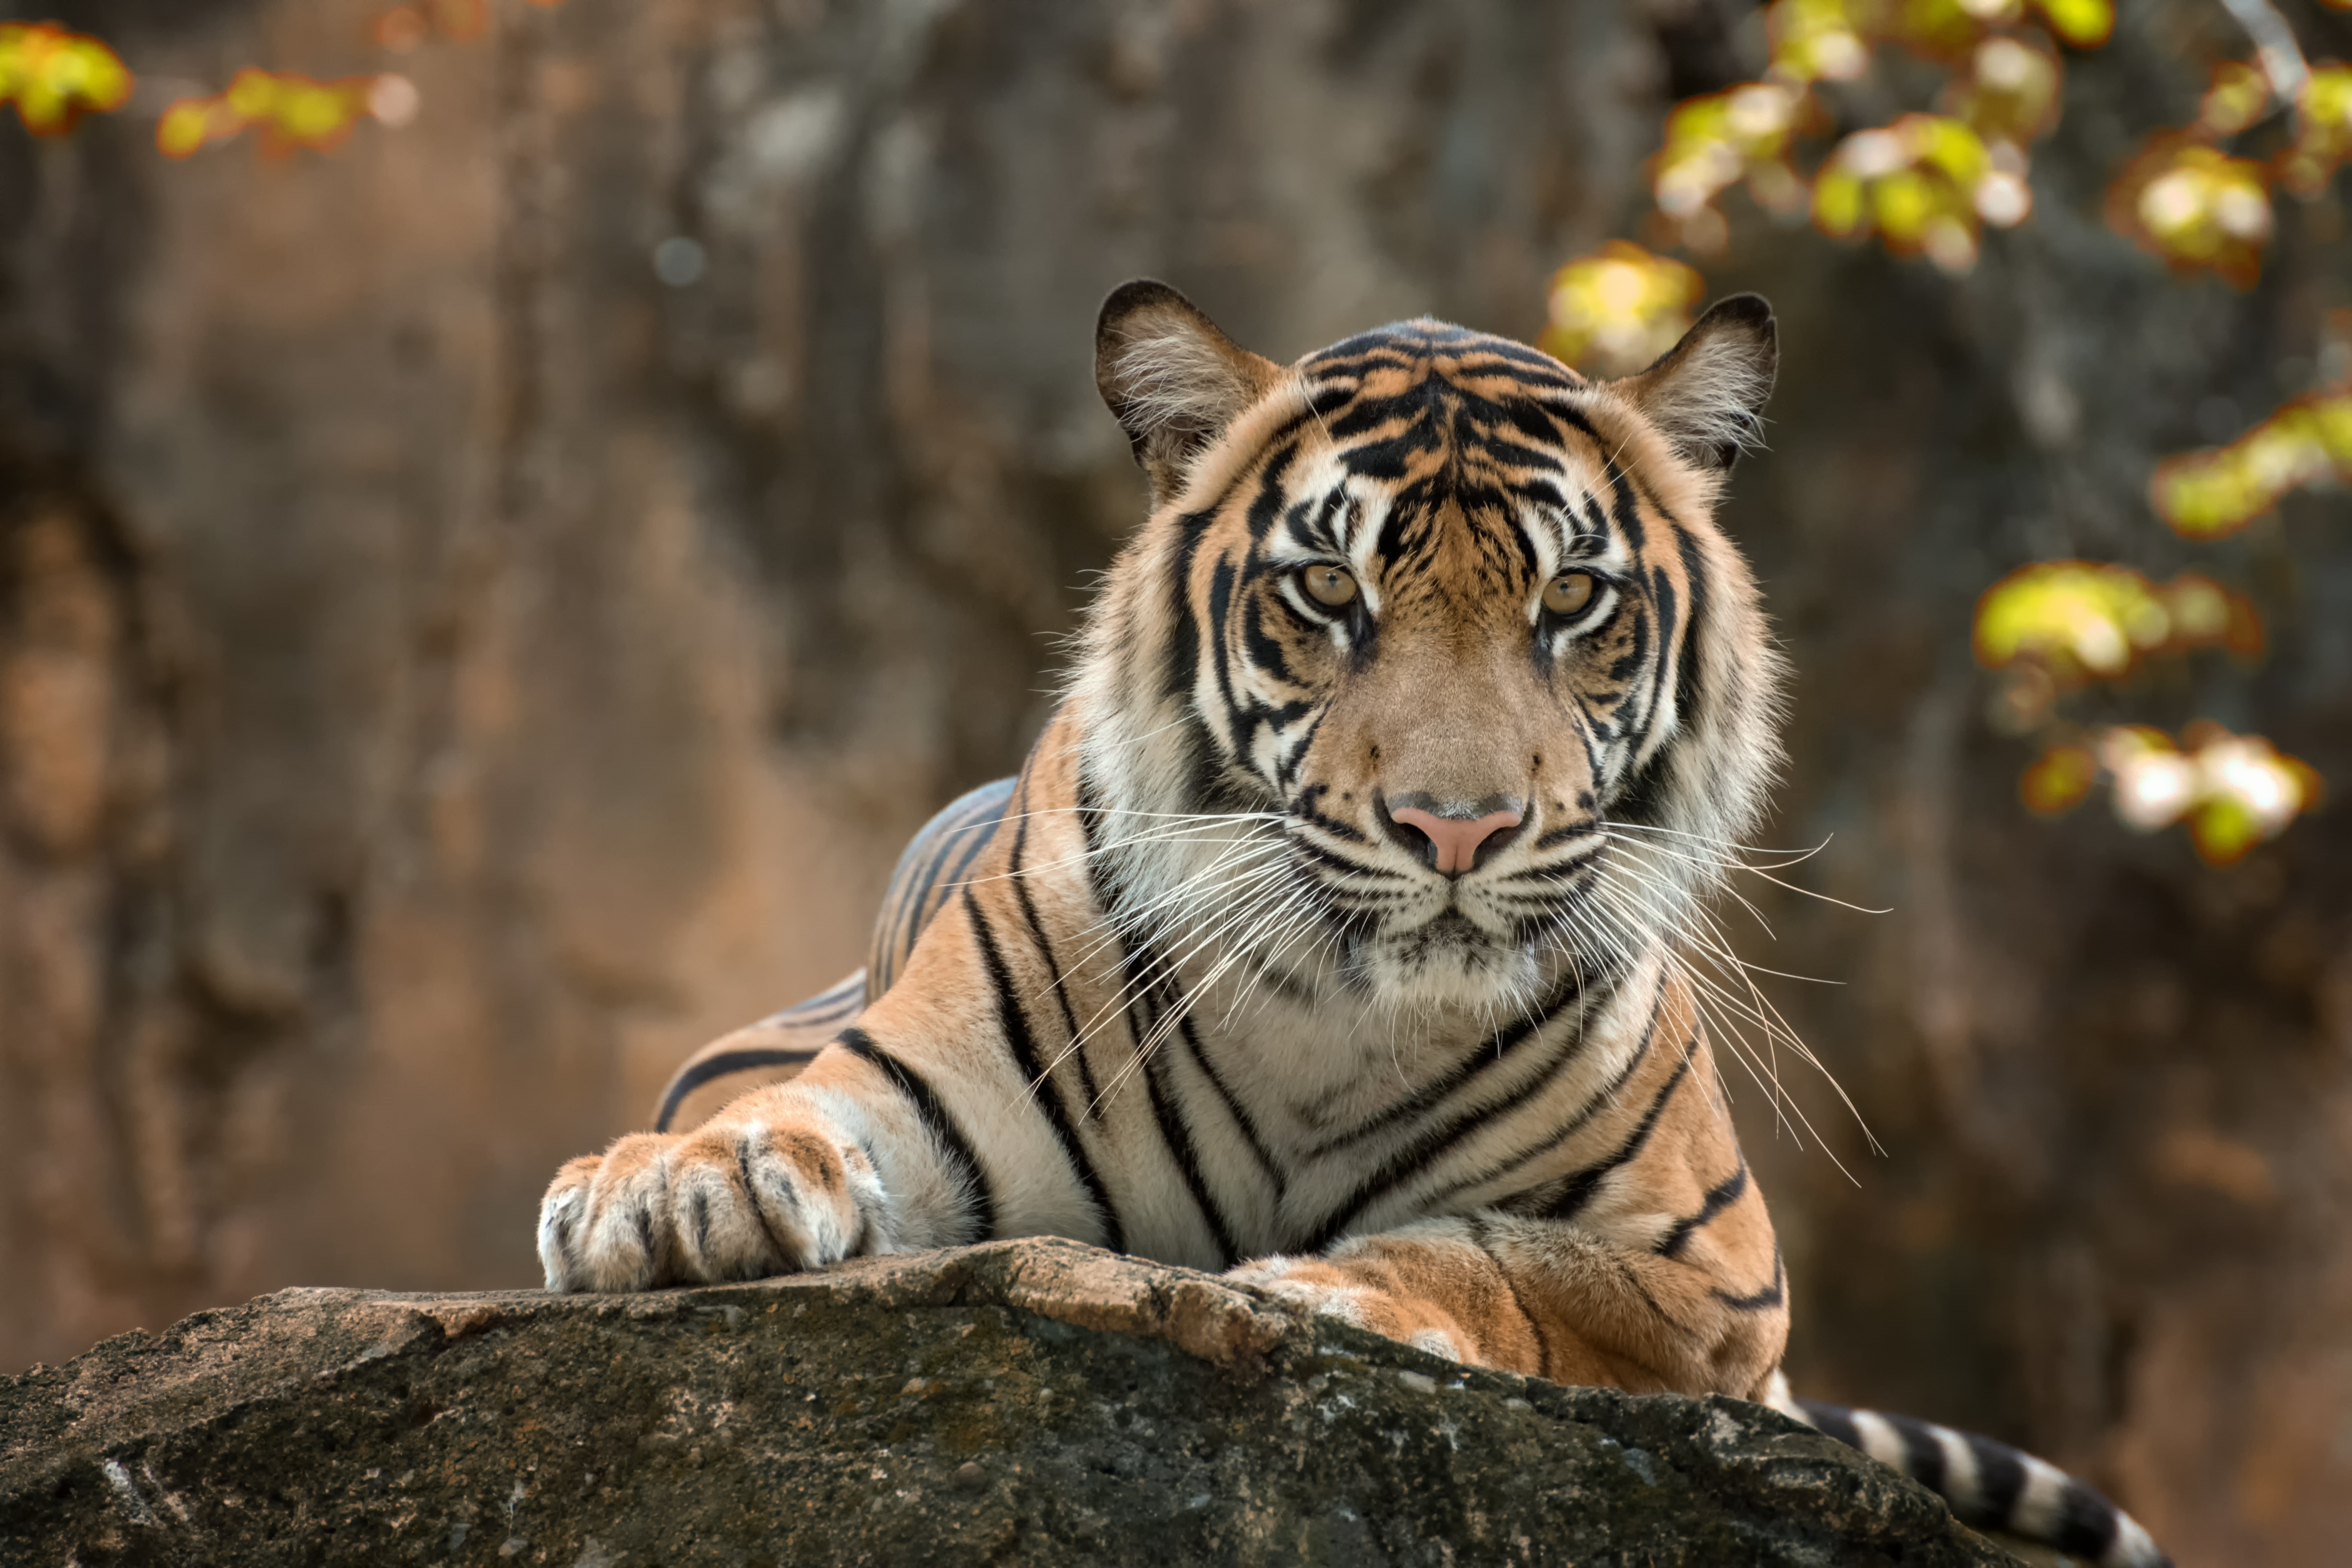tiger: (656, 275, 1867, 1372)
